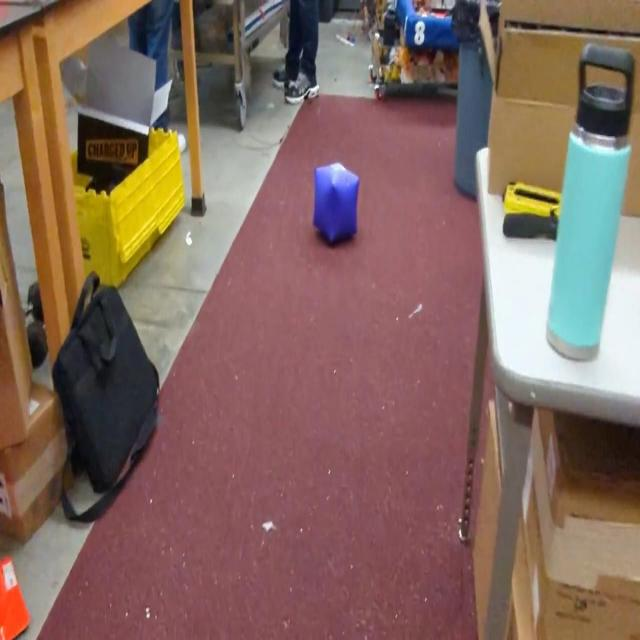frc_cube: (312, 160, 361, 246)
